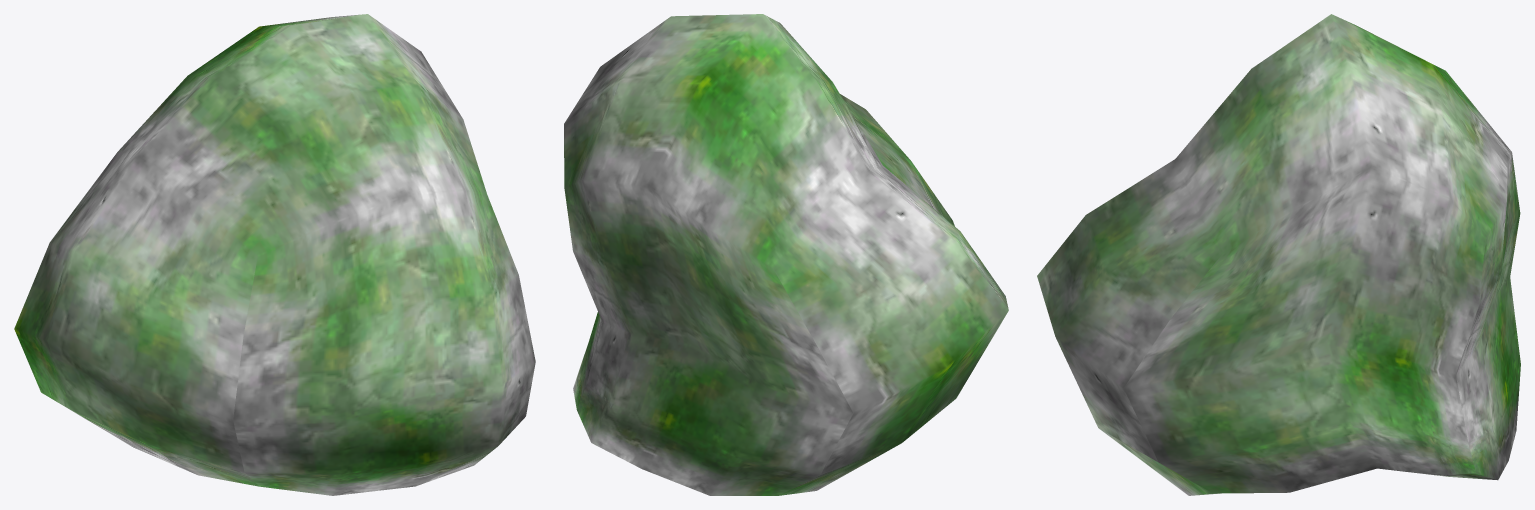
Rendered from INST_HTOWN_ROCKC.fbx.
The picture shows the model from 3 angles, left to right: view 1: azimuth 30°, elevation 25°; view 2: azimuth 150°, elevation 25°; view 3: azimuth 270°, elevation 25°; orthographic projection. The views are drawn at different scales.
Parts seen in each view (by area): view 1: INST_HTOWN_ROCKC; view 2: INST_HTOWN_ROCKC; view 3: INST_HTOWN_ROCKC.
Part boxes in pixels (x1,y1,x2,y2): INST_HTOWN_ROCKC: (14, 14, 535, 495); INST_HTOWN_ROCKC: (564, 14, 1008, 495); INST_HTOWN_ROCKC: (1037, 14, 1520, 495).
Size of the model in its own units: 21129 by 21129 by 21129.
Materials: 1 (1 with a texture image).
